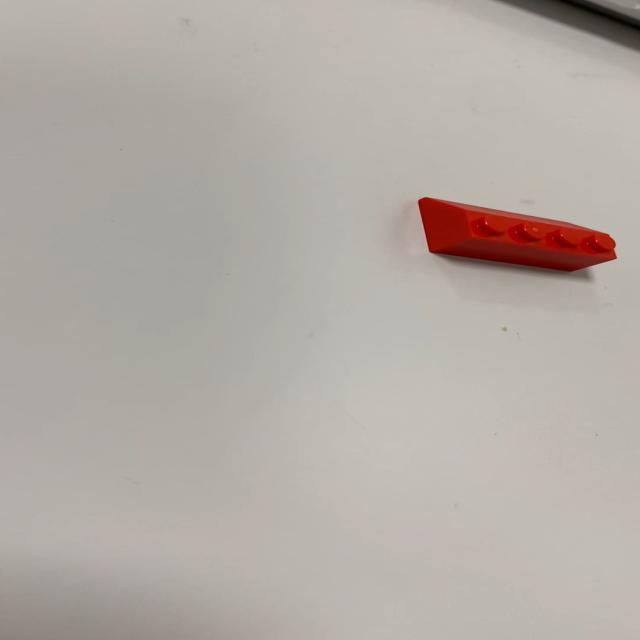P4x2x1: (415, 195, 618, 272)
